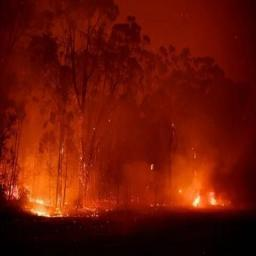Large fire: (0, 0, 256, 230)
